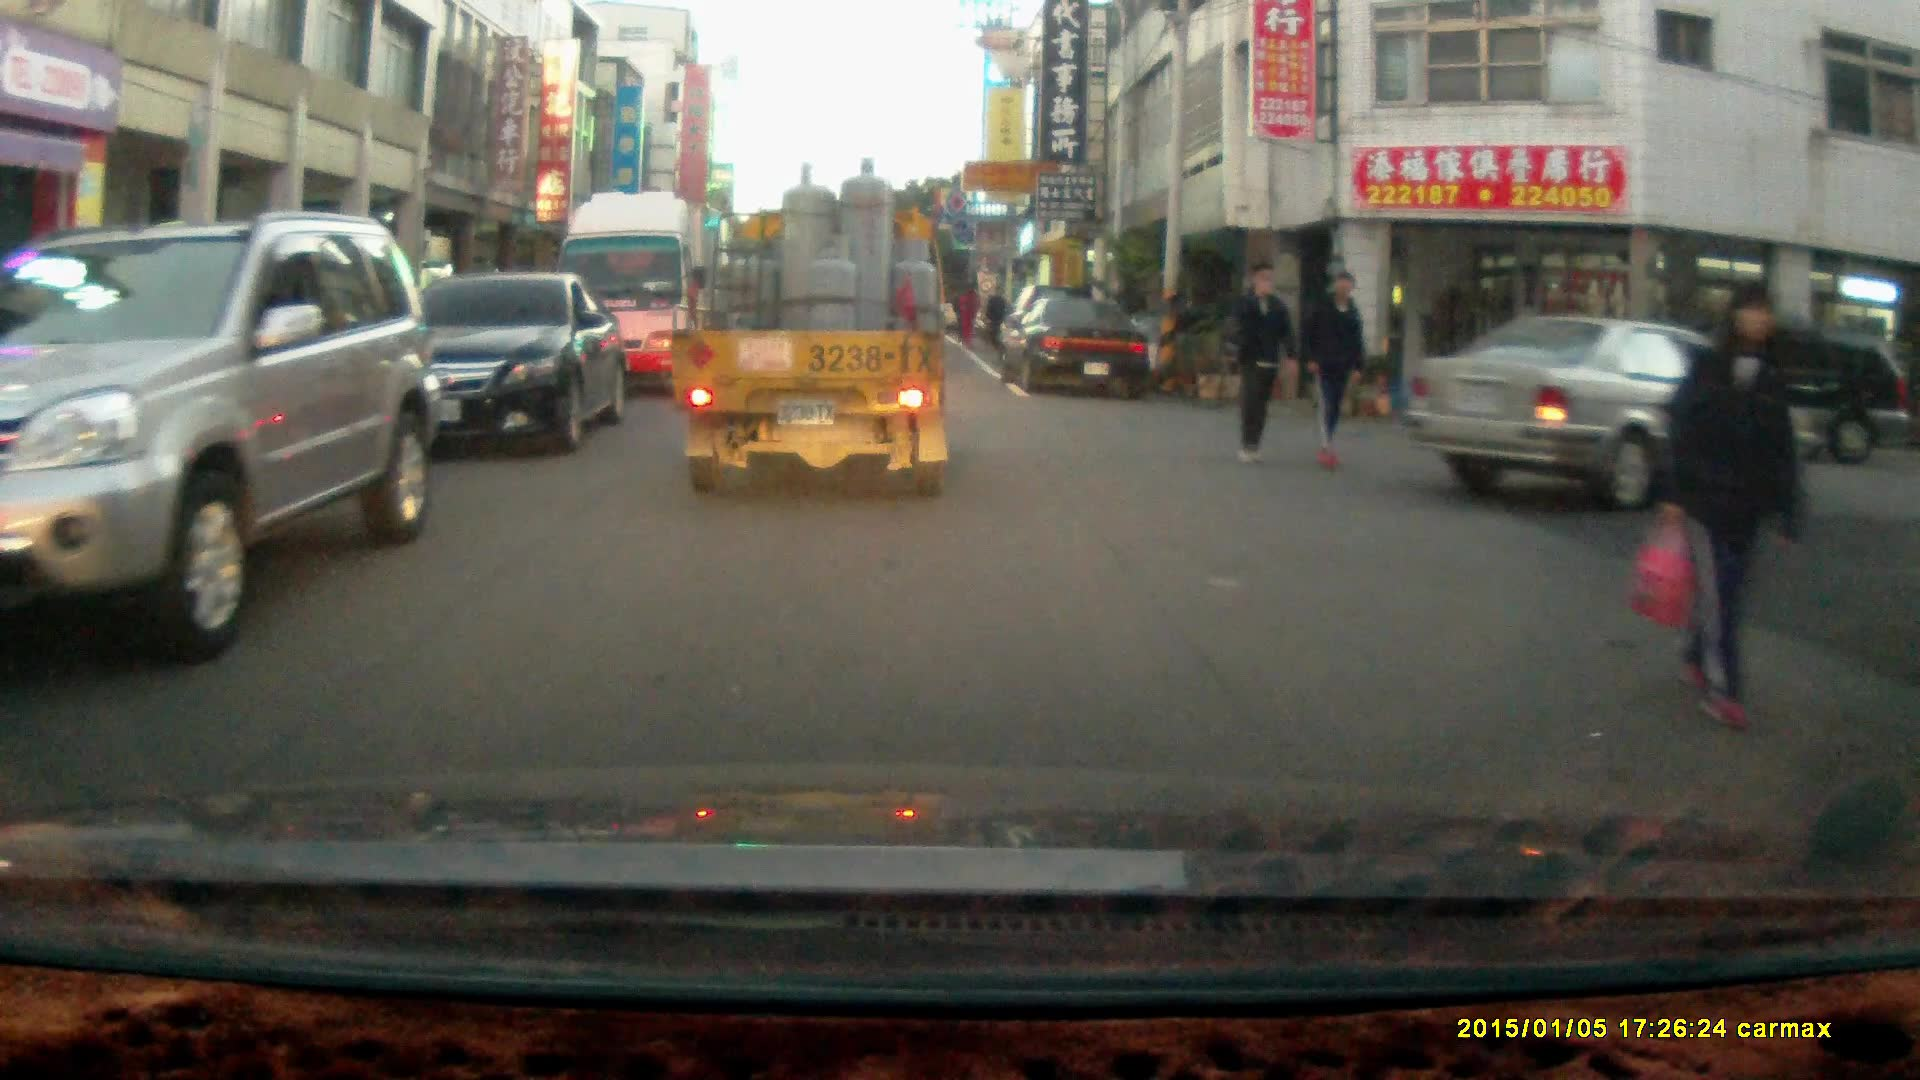pedestrian: (1660, 282, 1806, 730), (1299, 266, 1367, 473), (1228, 256, 1287, 462), (980, 279, 1008, 349), (954, 281, 979, 349)
vehicle: (1, 210, 438, 662), (671, 159, 952, 506), (1404, 313, 1812, 517), (347, 276, 629, 463), (551, 187, 730, 401), (993, 293, 1152, 400)
